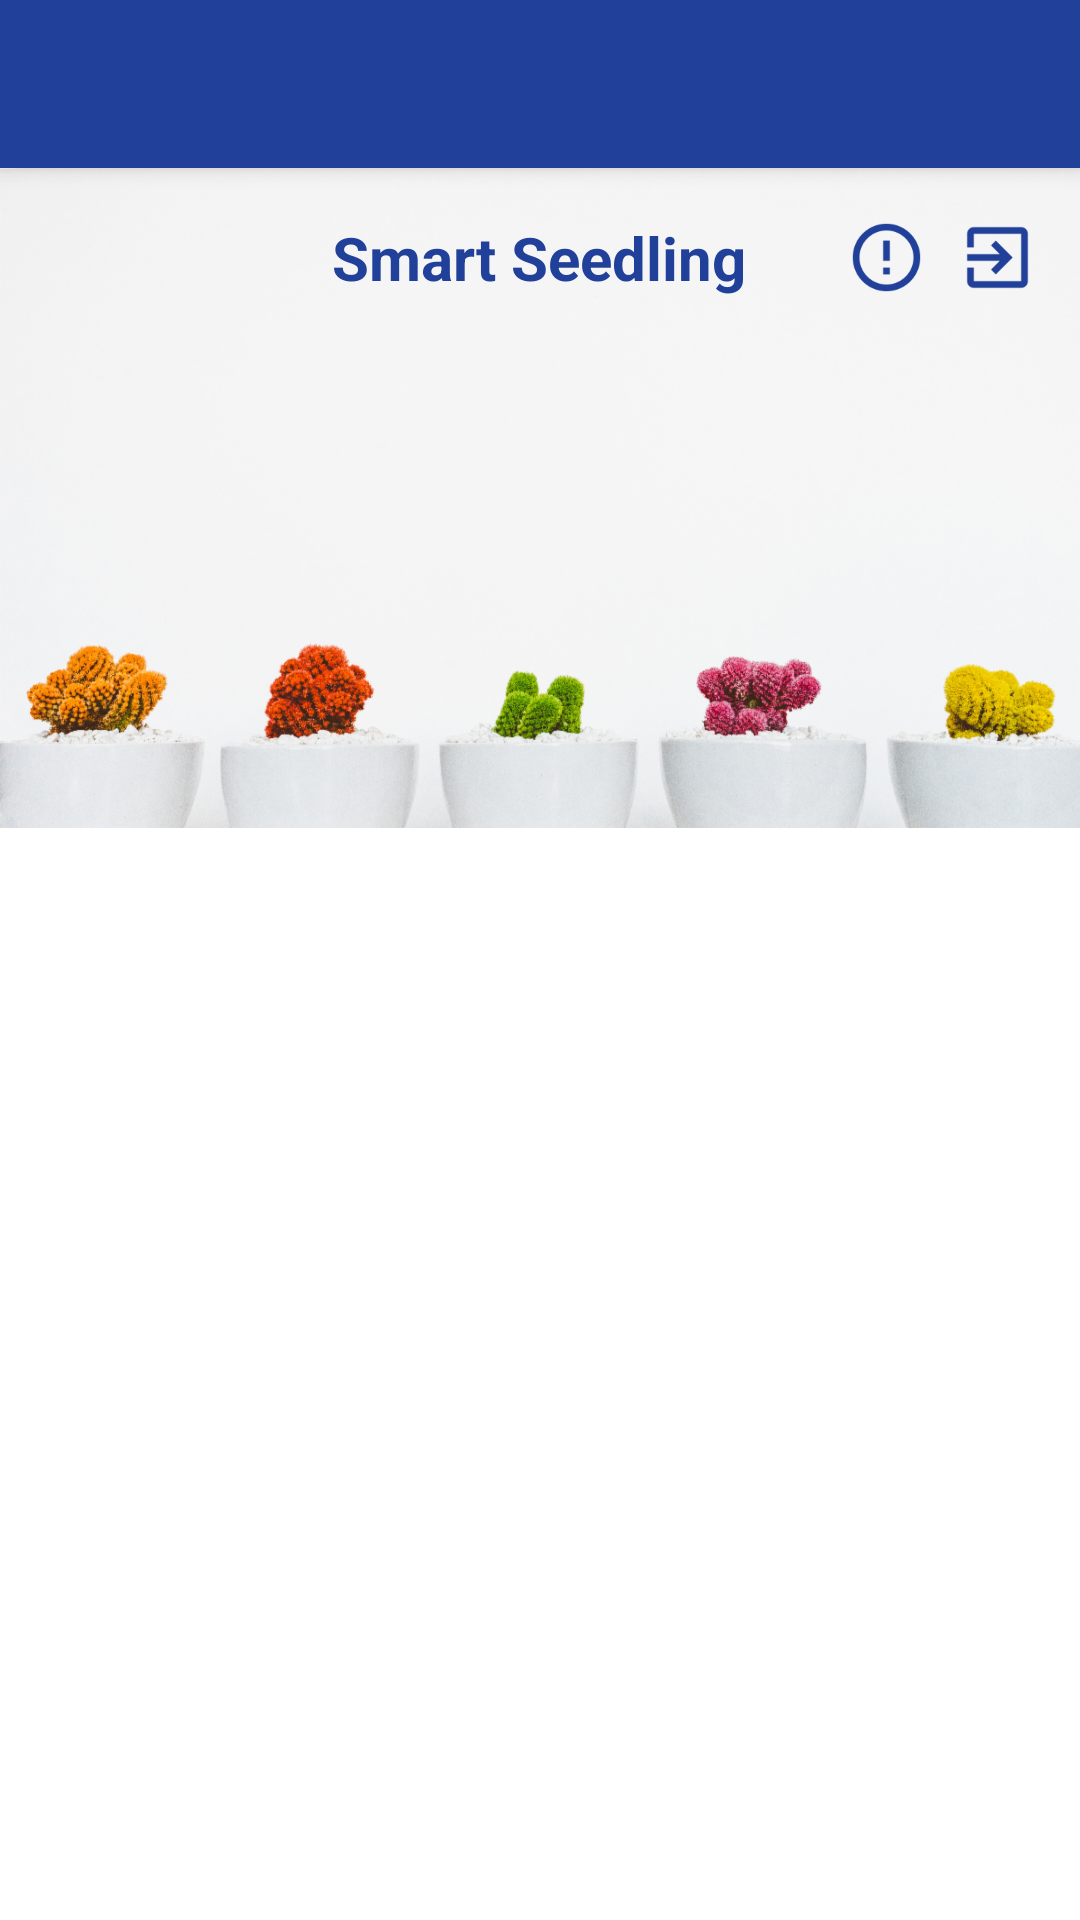

Named icons in this screenshot (1080×1920) and their bounding boxes, detection(x1, y1, x2, y2):
report: detection(852, 223, 921, 292)
